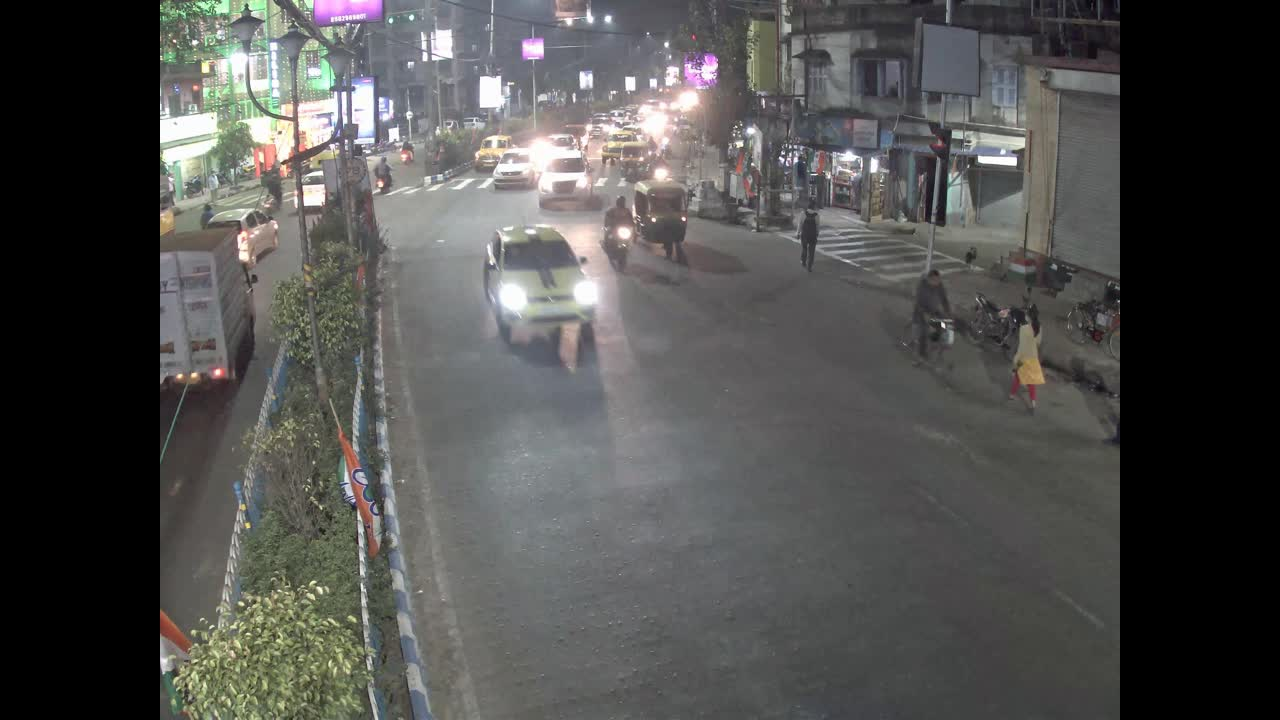auto-rickshaw: (630, 183, 690, 253), (618, 143, 653, 183)
bike: (601, 200, 634, 267)
car: (160, 231, 240, 386), (479, 227, 596, 329), (215, 205, 275, 253), (545, 152, 586, 205), (493, 152, 535, 187), (475, 133, 511, 165)
person: (911, 263, 952, 337), (1018, 307, 1045, 409), (797, 192, 823, 277)
